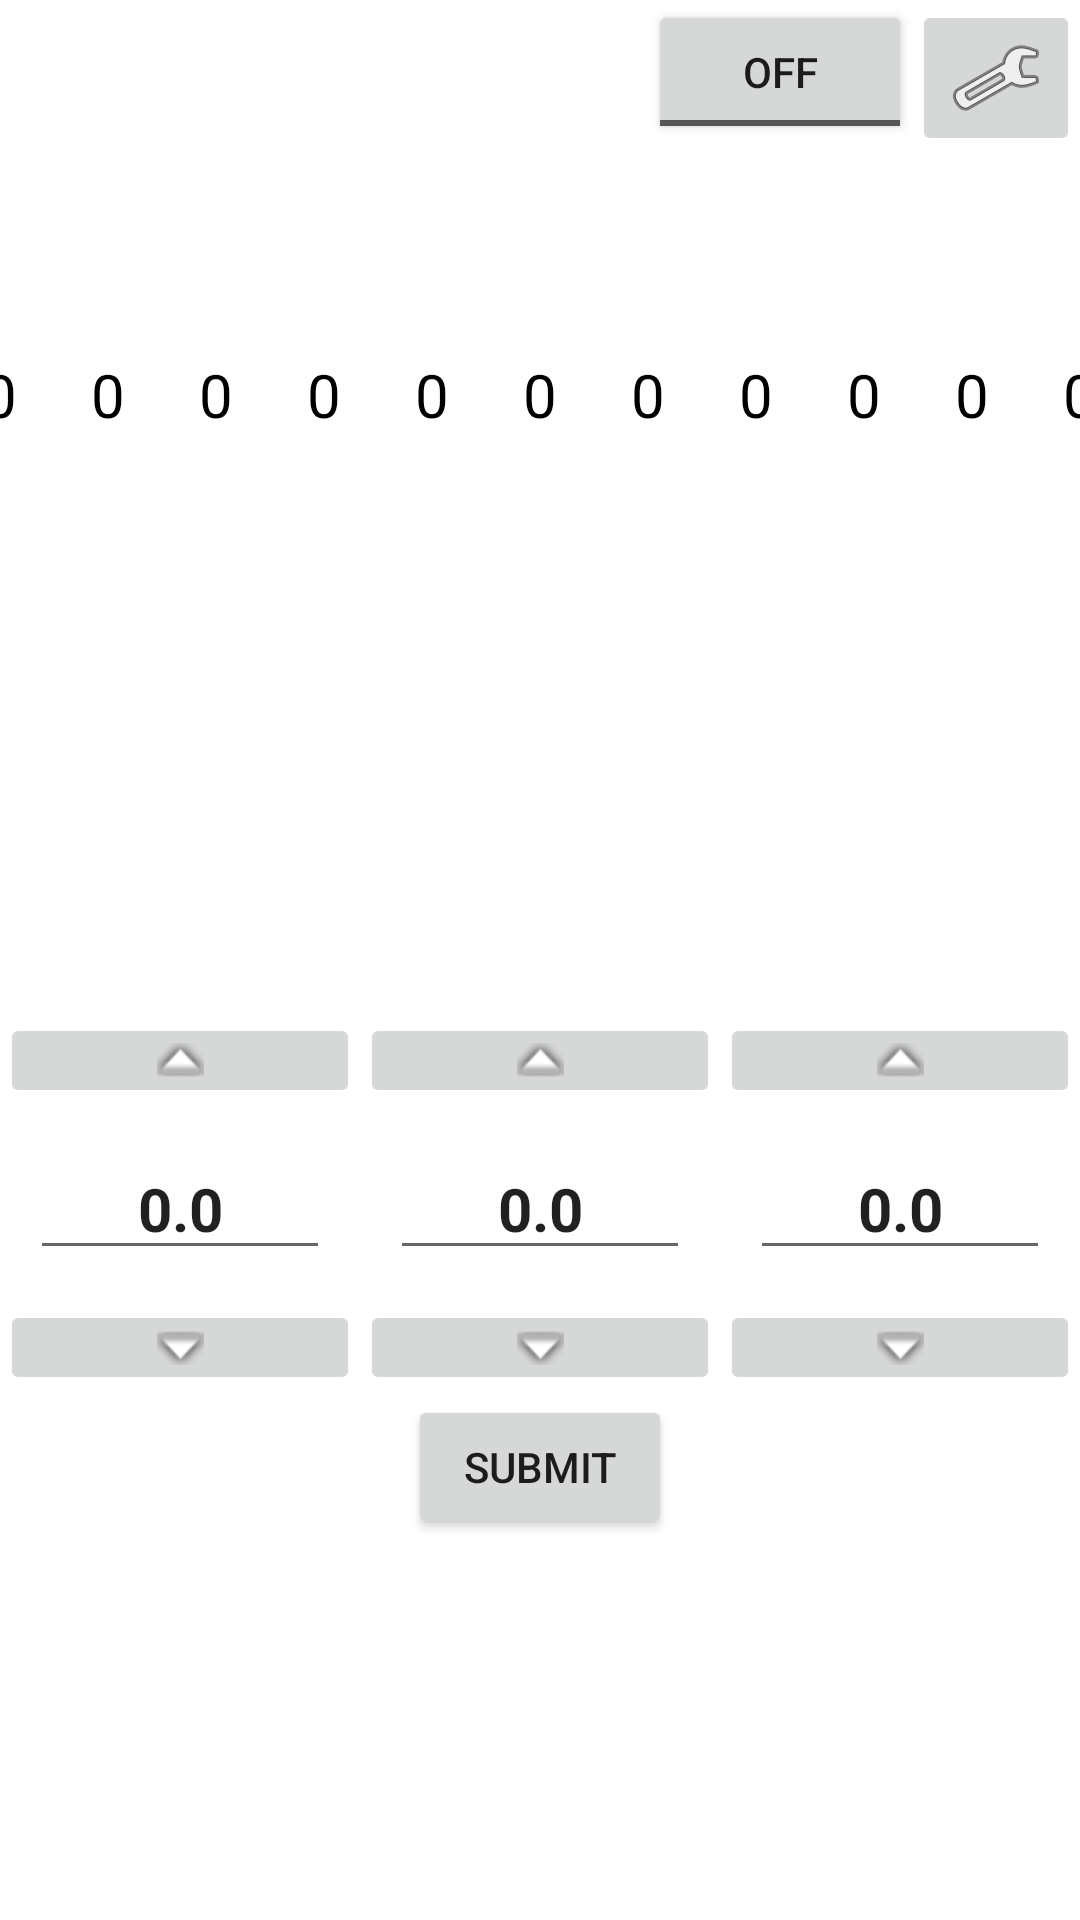

Icons on this 1080x1920 Android screen, each with the point to tap as point (x, y):
arrow down float: point (180, 1347), point (540, 1347), point (900, 1347)
arrow up float: point (180, 1060), point (540, 1060), point (900, 1060)
manage: point (996, 78)
